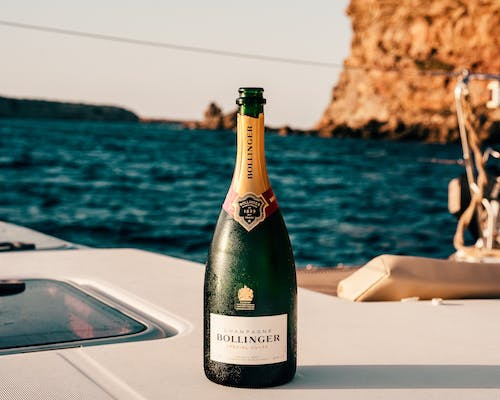alcohol: (202, 85, 298, 390)
